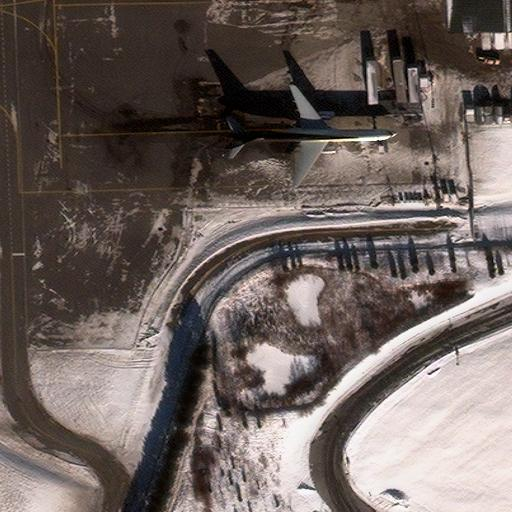Large Civil Transport: (232, 84, 397, 187)
